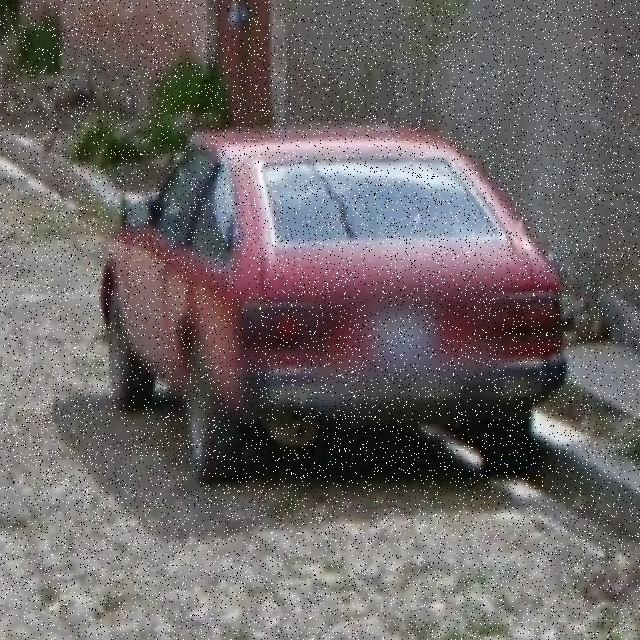cars: (96, 127, 564, 486)
